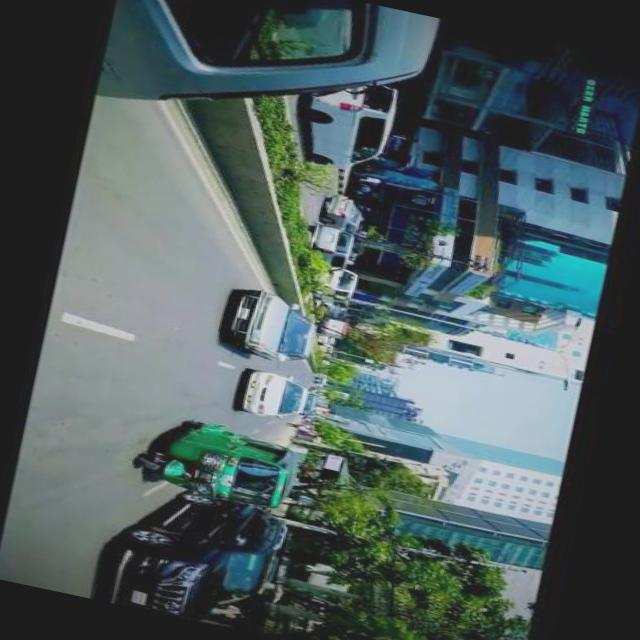car: (101, 476, 288, 632), (225, 282, 325, 368), (236, 366, 312, 422), (305, 222, 360, 276), (323, 190, 368, 232)
motorcycle: (138, 407, 306, 512)
truck: (298, 68, 404, 178), (318, 262, 361, 306)
